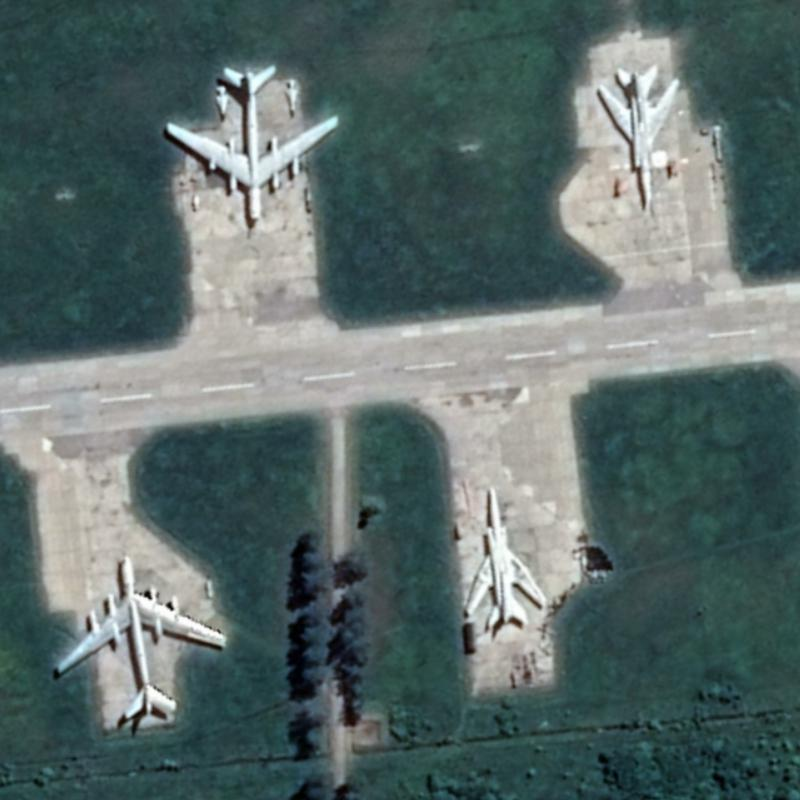A12: (461, 484, 547, 630), (595, 62, 681, 208)
A17: (53, 553, 228, 721), (164, 62, 340, 222)
